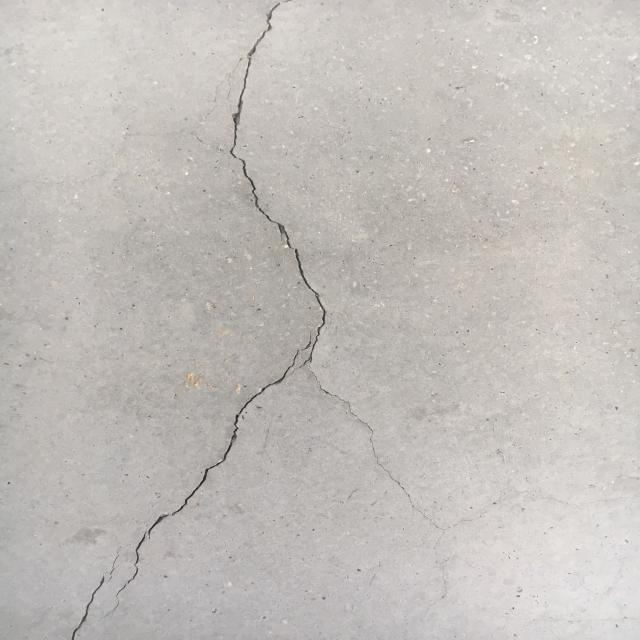Rachadura: (110, 0, 328, 618), (68, 543, 122, 640)
